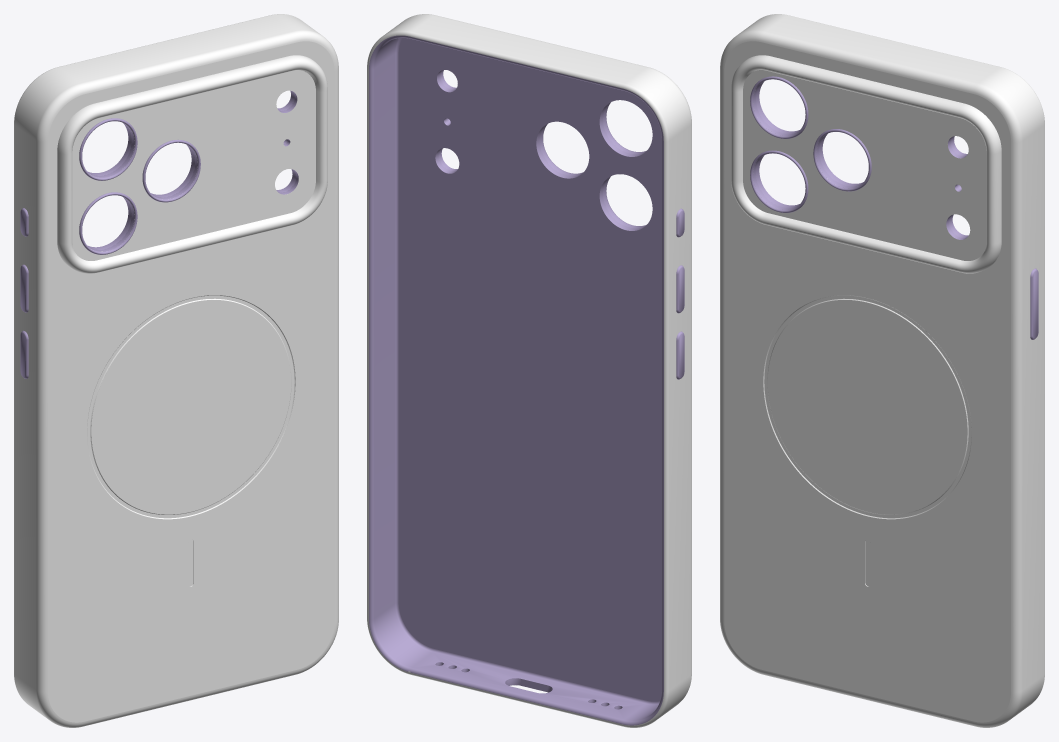
The model's file is shell.glb.
The picture shows the model from 3 angles, left to right: view 1: azimuth 30°, elevation 25°; view 2: azimuth 150°, elevation 25°; view 3: azimuth 330°, elevation 25°; orthographic projection.
Visible parts, largest first — view 1: case_shell, camera_island, lip_lens_main, lip_lens_ultrawide, lip_lens_tele; view 2: case_shell, camera_island; view 3: case_shell, camera_island, lip_lens_main, lip_lens_ultrawide, lip_lens_tele, power_button.
Boxes of the visible parts, x1=… form: case_shell: x1=14, y1=14, x2=338, y2=727; camera_island: x1=57, y1=55, x2=327, y2=273; lip_lens_main: x1=79, y1=118, x2=137, y2=180; lip_lens_ultrawide: x1=79, y1=192, x2=137, y2=254; lip_lens_tele: x1=142, y1=139, x2=200, y2=202; case_shell: x1=367, y1=14, x2=691, y2=727; camera_island: x1=439, y1=70, x2=646, y2=228; case_shell: x1=720, y1=14, x2=1044, y2=727; camera_island: x1=731, y1=55, x2=1001, y2=273; lip_lens_main: x1=750, y1=76, x2=808, y2=138; lip_lens_ultrawide: x1=750, y1=150, x2=808, y2=212; lip_lens_tele: x1=813, y1=129, x2=871, y2=191; power_button: x1=1030, y1=268, x2=1038, y2=339.
Size of the model in its own units: 0.0821 by 0.165 by 0.0158.
